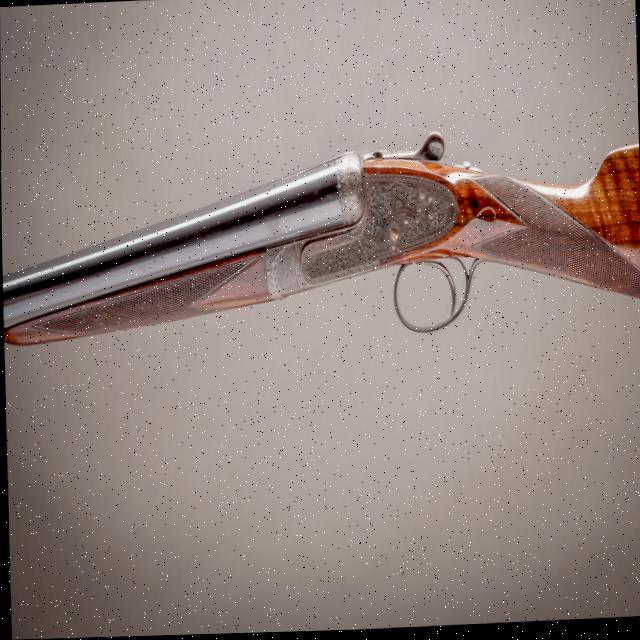firearm: (1, 118, 640, 355)
